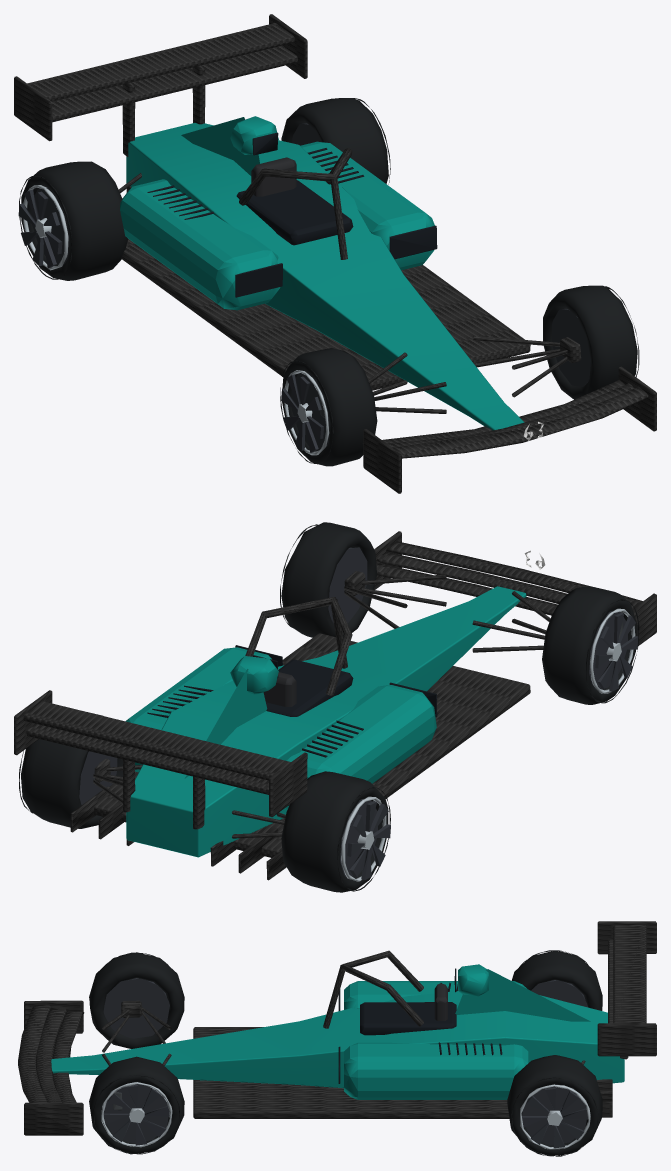
The model's file is f1-mid.glb.
The picture shows the model from 3 angles, top to bottom: view 1: azimuth 30°, elevation 25°; view 2: azimuth 150°, elevation 25°; view 3: azimuth 270°, elevation 25°; orthographic projection. The views are drawn at different scales.
Parts seen in each view (by area): view 1: chassis.001__Automotive clearcoat, chassis.001__Carbon twill, wheel_RL.001__Tyre rubber, chassis.001__Satin black trim, wheel_FL.001__Tyre rubber, wheel_FR.001__Tyre rubber, wheel_RR.001__Tyre rubber, wheel_RL.001__Graphite alloy, wheel_FL.001__Graphite alloy, wheel_FR.001__Graphite alloy, chassis.001__Charcoal upholstery, wheel_RL.001__Machined aluminium (+1 smaller); view 2: chassis.001__Carbon twill, chassis.001__Automotive clearcoat, wheel_RL.001__Tyre rubber, wheel_FL.001__Tyre rubber, wheel_FR.001__Tyre rubber, wheel_RR.001__Tyre rubber, chassis.001__Satin black trim, wheel_RL.001__Graphite alloy, wheel_FL.001__Graphite alloy, wheel_FR.001__Graphite alloy, wheel_RR.001__Graphite alloy, wheel_RL.001__Machined aluminium (+2 smaller); view 3: chassis.001__Automotive clearcoat, chassis.001__Carbon twill, wheel_RR.001__Tyre rubber, wheel_FL.001__Tyre rubber, wheel_FR.001__Tyre rubber, chassis.001__Satin black trim, wheel_RR.001__Graphite alloy, wheel_FR.001__Graphite alloy, wheel_RL.001__Tyre rubber, wheel_FL.001__Graphite alloy, wheel_RL.001__Graphite alloy, wheel_FR.001__Machined aluminium (+2 smaller).
Boxes of the visible parts, x1,y1,x2,y2 form: chassis.001__Automotive clearcoat: [120, 116, 524, 430]; chassis.001__Carbon twill: [14, 14, 656, 493]; wheel_RL.001__Tyre rubber: [19, 161, 128, 280]; chassis.001__Satin black trim: [147, 132, 437, 297]; wheel_FL.001__Tyre rubber: [280, 348, 377, 466]; wheel_FR.001__Tyre rubber: [543, 285, 639, 399]; wheel_RR.001__Tyre rubber: [281, 98, 390, 184]; wheel_RL.001__Graphite alloy: [18, 186, 69, 268]; wheel_FL.001__Graphite alloy: [281, 373, 330, 452]; wheel_FR.001__Graphite alloy: [552, 308, 590, 386]; chassis.001__Charcoal upholstery: [251, 157, 296, 196]; wheel_RL.001__Machined aluminium: [23, 185, 68, 270]; chassis.001__Carbon twill: [14, 531, 656, 880]; chassis.001__Automotive clearcoat: [125, 586, 526, 857]; wheel_RL.001__Tyre rubber: [281, 771, 390, 892]; wheel_FL.001__Tyre rubber: [542, 586, 639, 704]; wheel_FR.001__Tyre rubber: [280, 522, 376, 637]; wheel_RR.001__Tyre rubber: [19, 713, 122, 828]; chassis.001__Satin black trim: [147, 645, 437, 757]; wheel_RL.001__Graphite alloy: [340, 799, 390, 879]; wheel_FL.001__Graphite alloy: [589, 611, 638, 691]; wheel_FR.001__Graphite alloy: [328, 547, 367, 623]; wheel_RR.001__Graphite alloy: [79, 751, 117, 804]; wheel_RL.001__Machined aluminium: [341, 796, 386, 881]; chassis.001__Automotive clearcoat: [51, 964, 624, 1099]; chassis.001__Carbon twill: [18, 921, 656, 1135]; wheel_RR.001__Tyre rubber: [507, 1055, 602, 1156]; wheel_FL.001__Tyre rubber: [89, 952, 184, 1048]; wheel_FR.001__Tyre rubber: [89, 1056, 184, 1154]; chassis.001__Satin black trim: [338, 968, 502, 1083]; wheel_RR.001__Graphite alloy: [522, 1084, 587, 1148]; wheel_FR.001__Graphite alloy: [104, 1084, 169, 1145]; wheel_RL.001__Tyre rubber: [511, 950, 602, 1010]; wheel_FL.001__Graphite alloy: [103, 978, 169, 1038]; wheel_RL.001__Graphite alloy: [531, 980, 588, 1007]; wheel_FR.001__Machined aluminium: [101, 1082, 172, 1147].
Bounding box in the file's own units: 2.36 × 1.1 × 4.84.
9 materials, 1 textured.
